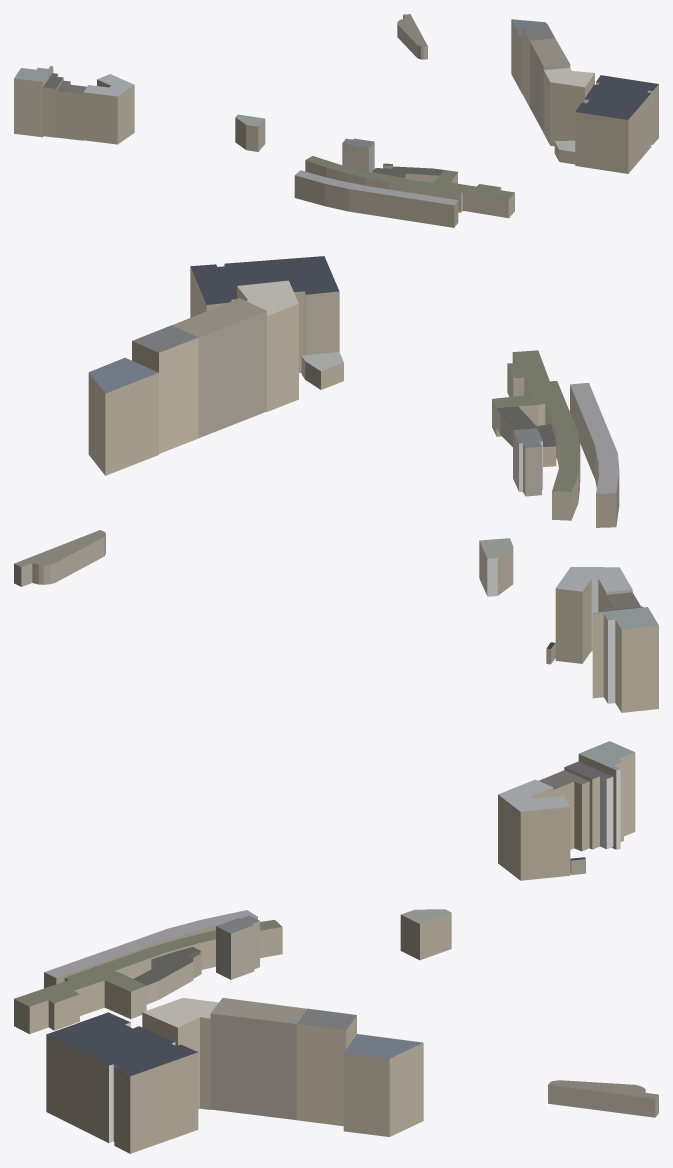
3 renders of one model, top to bottom at view 1: azimuth 30°, elevation 25°; view 2: azimuth 150°, elevation 25°; view 3: azimuth 270°, elevation 25°, orthographic. The views are drawn at different scales.
Visible parts, largest first — view 1: tuile; view 2: tuile; view 3: tuile.
Boxes of the visible parts, <box> form: tuile: <box>14,14,658,227</box>; tuile: <box>14,256,658,712</box>; tuile: <box>14,741,658,1153</box>.
Bounding box in the file's own units: 240 × 37.83 × 195.
